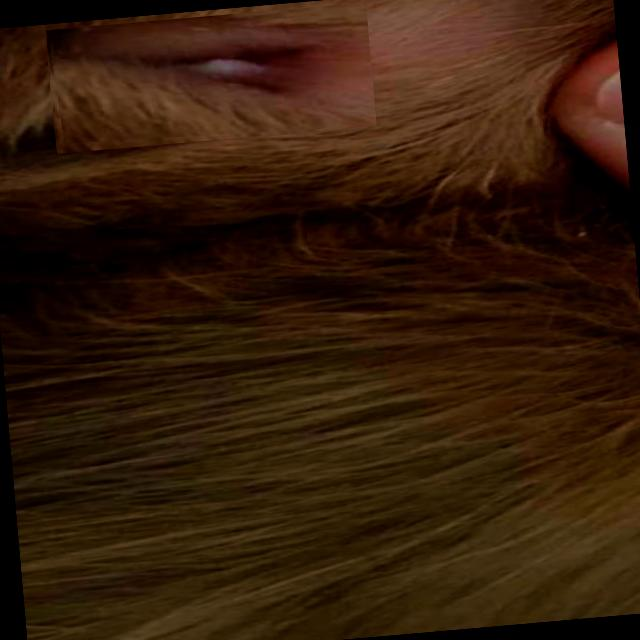fem: (47, 1, 376, 144)
